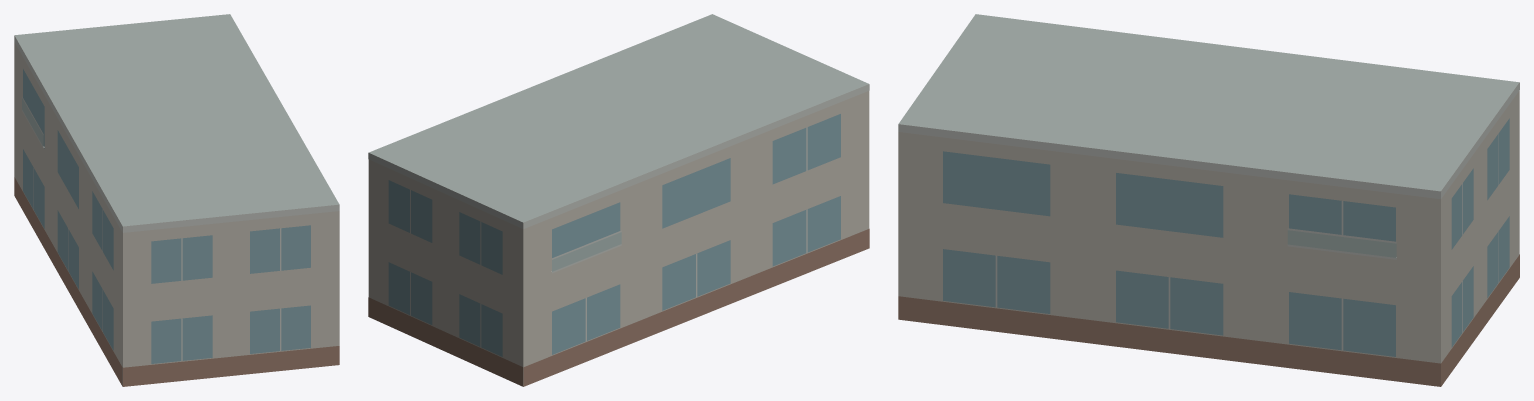
The model's file is survey-upis-32947116.glb.
3 views of the same model, side by side, from view 1: azimuth 30°, elevation 25°; view 2: azimuth 150°, elevation 25°; view 3: azimuth 270°, elevation 25° (orthographic). The views are drawn at different scales.
Visible parts, largest first — view 1: survey-upis-32947116.tmp; view 2: survey-upis-32947116.tmp; view 3: survey-upis-32947116.tmp.
Part boxes in pixels (box(x1,y1,x2,y2)): survey-upis-32947116.tmp: box(14, 14, 339, 386); survey-upis-32947116.tmp: box(368, 14, 869, 386); survey-upis-32947116.tmp: box(898, 14, 1519, 386).
Bounding box in the file's own units: 11.89 × 6.1 × 17.59.
